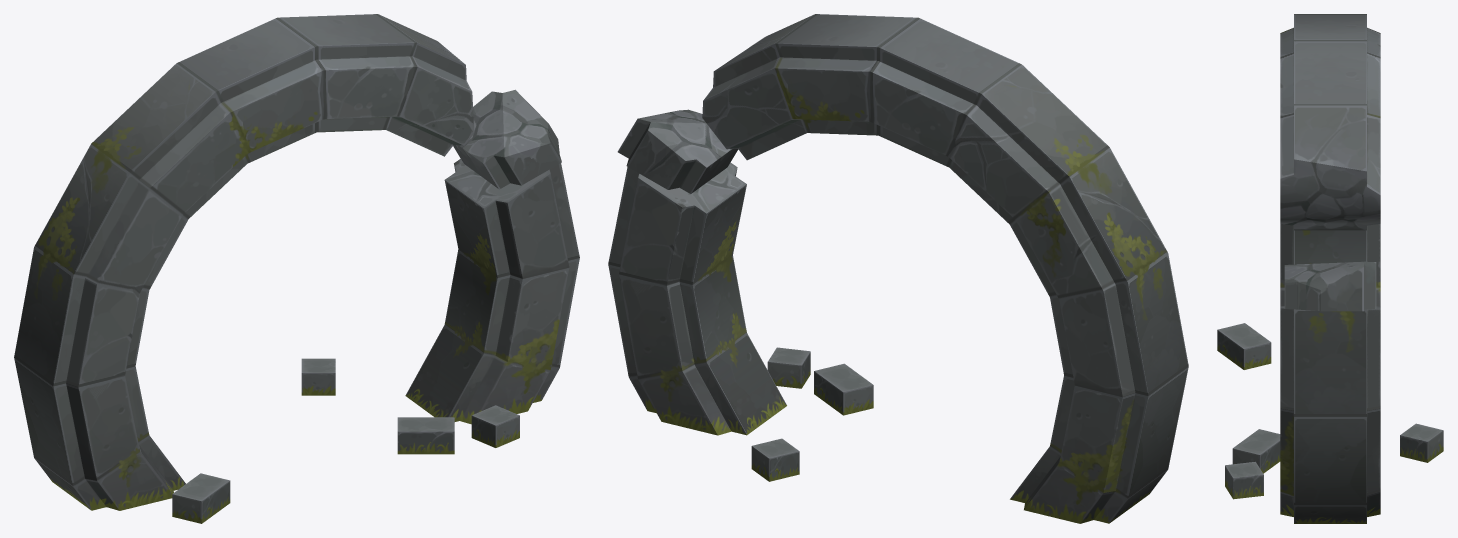
File: Pr_RoundGate_02.FBX
The picture shows the model from 3 angles, left to right: view 1: azimuth 30°, elevation 25°; view 2: azimuth 150°, elevation 25°; view 3: azimuth 270°, elevation 25°; orthographic projection. The views are drawn at different scales.
Visible parts, largest first — view 1: Pr_RoundGate_02; view 2: Pr_RoundGate_02; view 3: Pr_RoundGate_02.
Part boxes in pixels (box(x1,y1,x2,y2)): Pr_RoundGate_02: box(14, 14, 579, 523); Pr_RoundGate_02: box(608, 14, 1188, 523); Pr_RoundGate_02: box(1217, 14, 1443, 523).
Size of the model in its own units: 4.22 by 3.14 by 1.69.
1 material, 1 textured.
